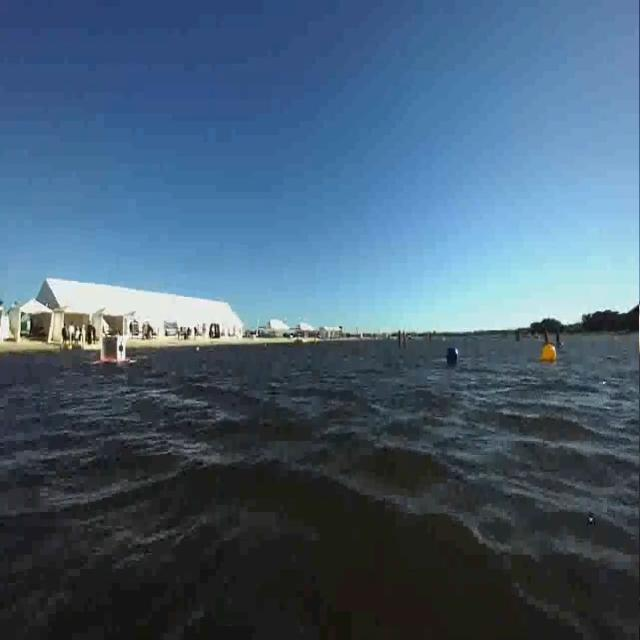blue-buoy: (444, 345, 458, 366)
yellow-buoy: (542, 342, 558, 364)
